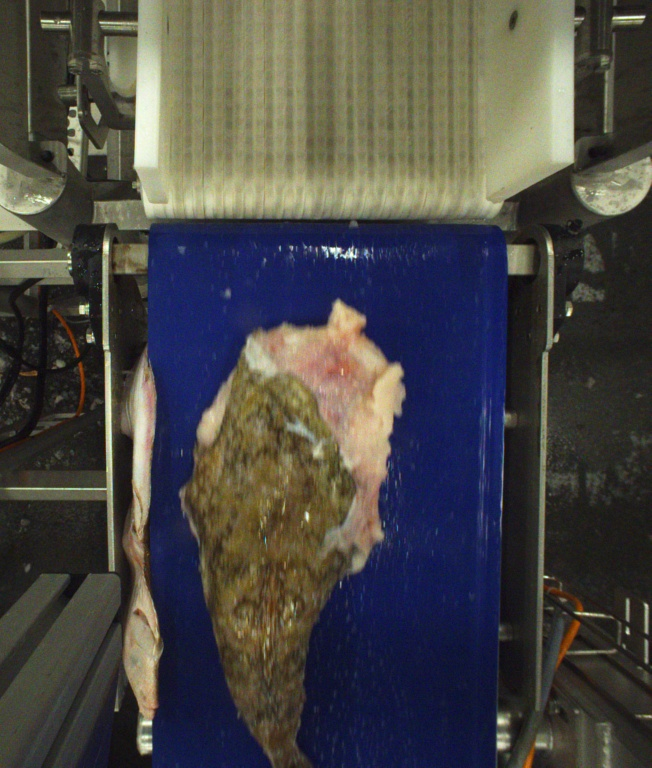ANF: (181, 301, 408, 764)
